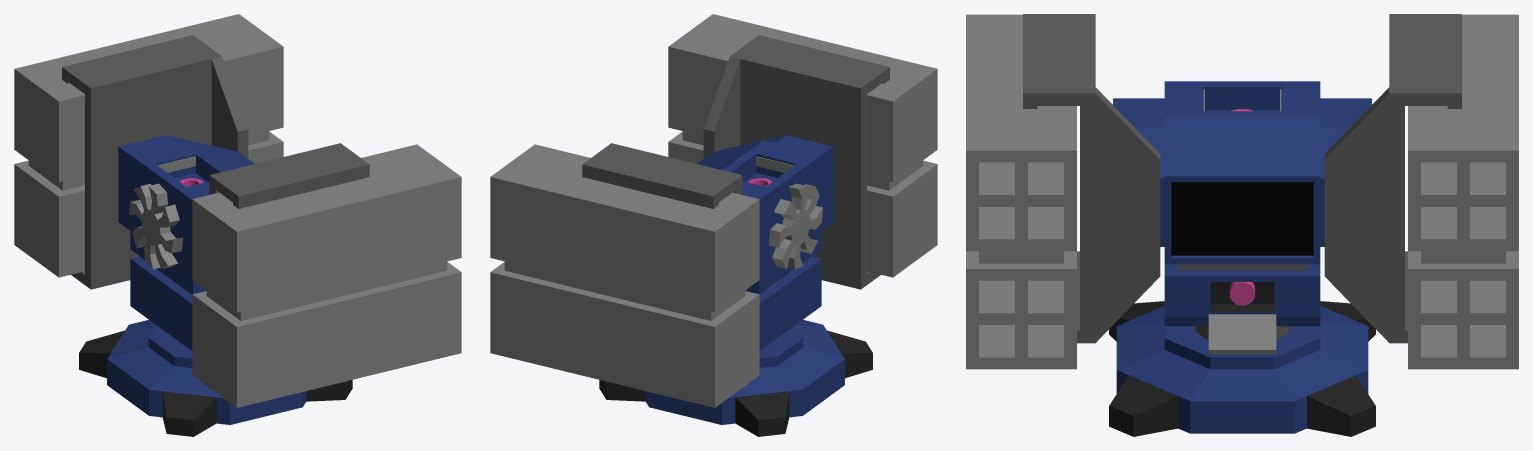
Rendered from LAD.fbx.
3 renders of one model, left to right at view 1: azimuth 30°, elevation 25°; view 2: azimuth 150°, elevation 25°; view 3: azimuth 270°, elevation 25°, orthographic. The views are drawn at different scales.
Parts seen in each view (by area): view 1: Model_RA, Model_LA, Model_B, Model_BD, Model_WP1; view 2: Model_LA, Model_RA, Model_B, Model_BD, Model_WP1; view 3: Model_RA, Model_LA, Model_BD, Model_B, Model_WP2.
Boxes of the visible parts, <box> form: Model_RA: <box>192,143,461,407</box>; Model_LA: <box>14,14,283,289</box>; Model_B: <box>79,320,352,436</box>; Model_BD: <box>118,135,254,350</box>; Model_WP1: <box>129,183,183,269</box>; Model_LA: <box>490,143,759,407</box>; Model_RA: <box>668,14,937,289</box>; Model_B: <box>599,320,872,436</box>; Model_BD: <box>697,135,833,350</box>; Model_WP1: <box>768,183,822,269</box>; Model_RA: <box>966,14,1160,369</box>; Model_LA: <box>1324,14,1518,369</box>; Model_BD: <box>1113,81,1371,326</box>; Model_B: <box>1109,301,1375,436</box>; Model_WP2: <box>1208,314,1276,354</box>.
Size of the model in its own units: 504 by 557 by 854.
